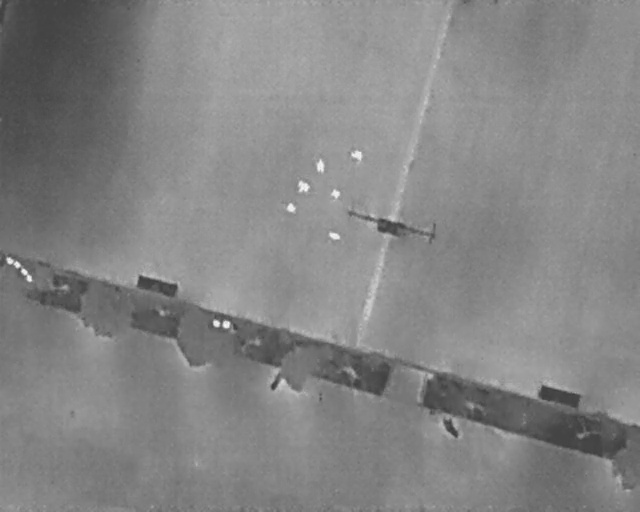Car: (297, 180, 310, 194), (351, 149, 363, 164), (316, 159, 326, 175), (330, 188, 341, 201), (286, 202, 296, 215), (328, 231, 341, 240)
